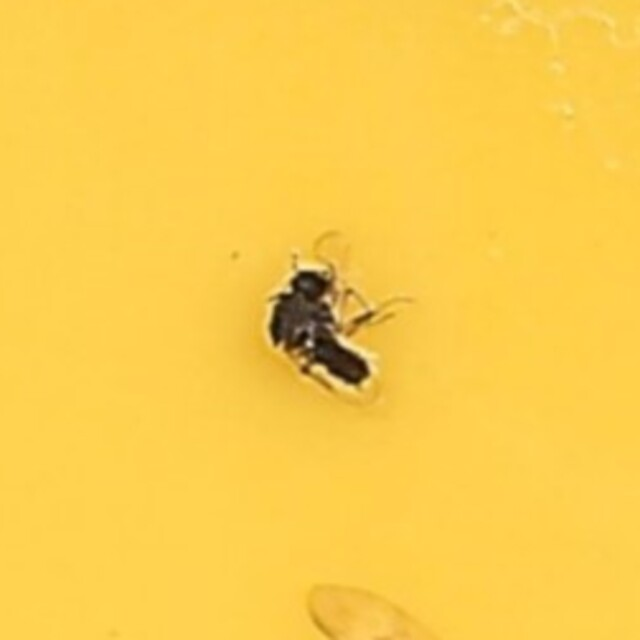Nematocera: (254, 247, 386, 393)
